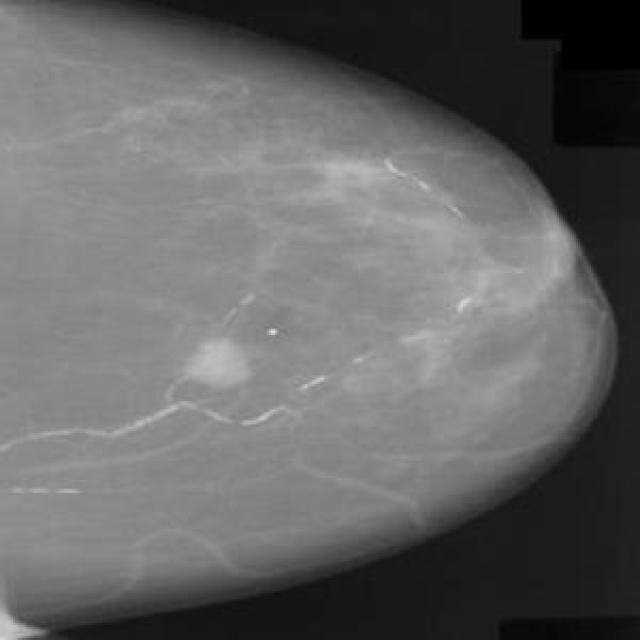tumor: (324, 139, 578, 318), (176, 307, 291, 410)
